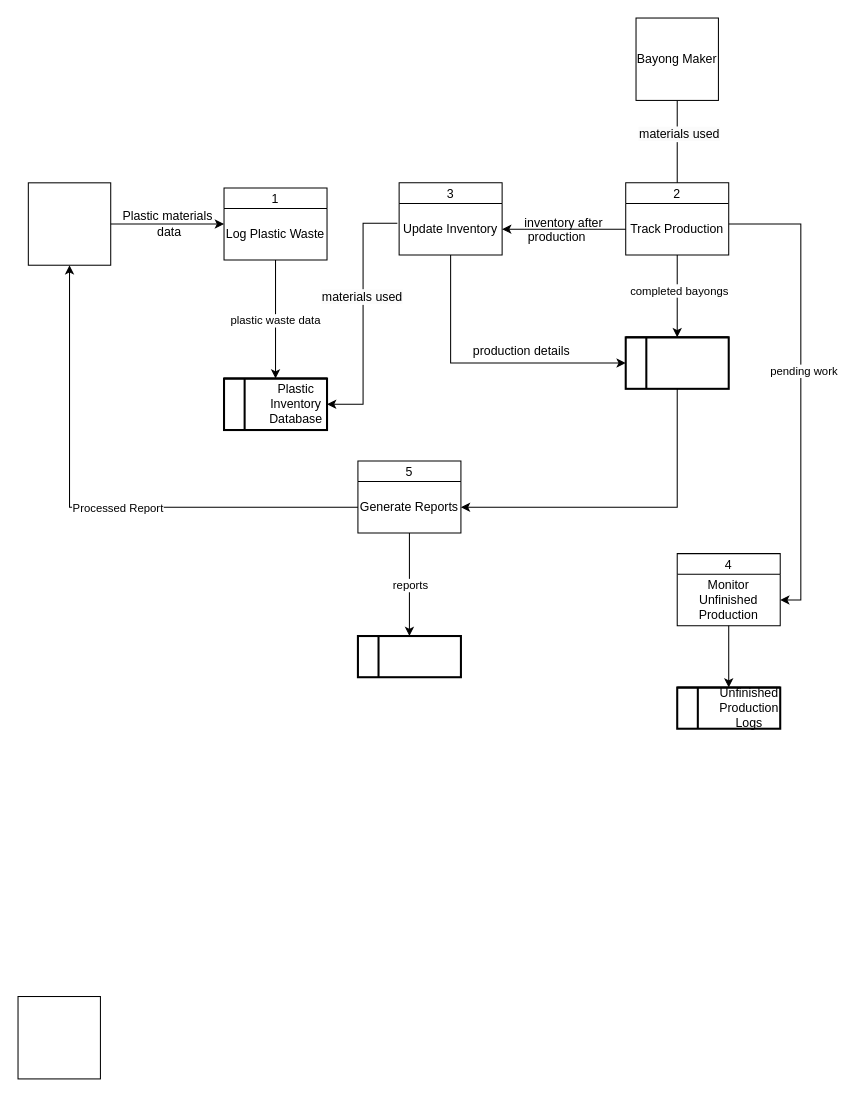
Some shapes in this 855 by 1097 pixel diagram are drawn without their labels. Here are the shapes that lost their labels. From the top down, the centre of each, then its label:
(x=69, y=223): Barangay Officials
(x=676, y=362): Bayong Production Logs
(x=408, y=656): Reports Database
(x=58, y=1037): System Admin
